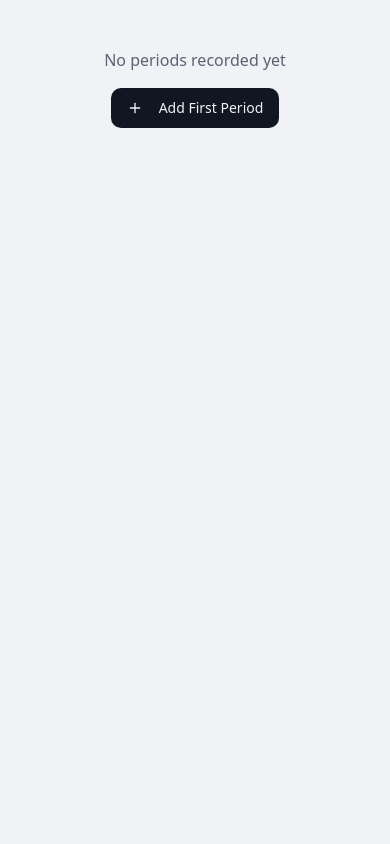
PeriodsTable Add dialog (BUG-043) › opens from "Add First Period" when there are no periods
The image size is (390, 844).
What coordinates should you click on to do the following:
click the button "Add First Period"
I would click on:
 (195, 108)
Its box is [111,88,279,128].
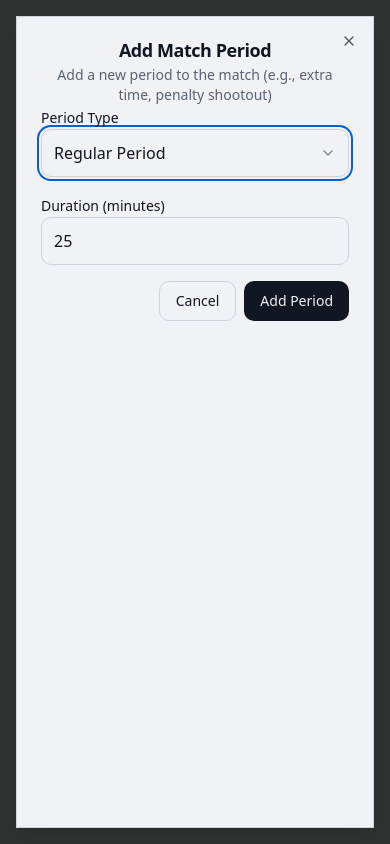
Check: the number of dialogs is 1
Check: the heading "Add Match Period" is shown, box [119,38,271,62]
